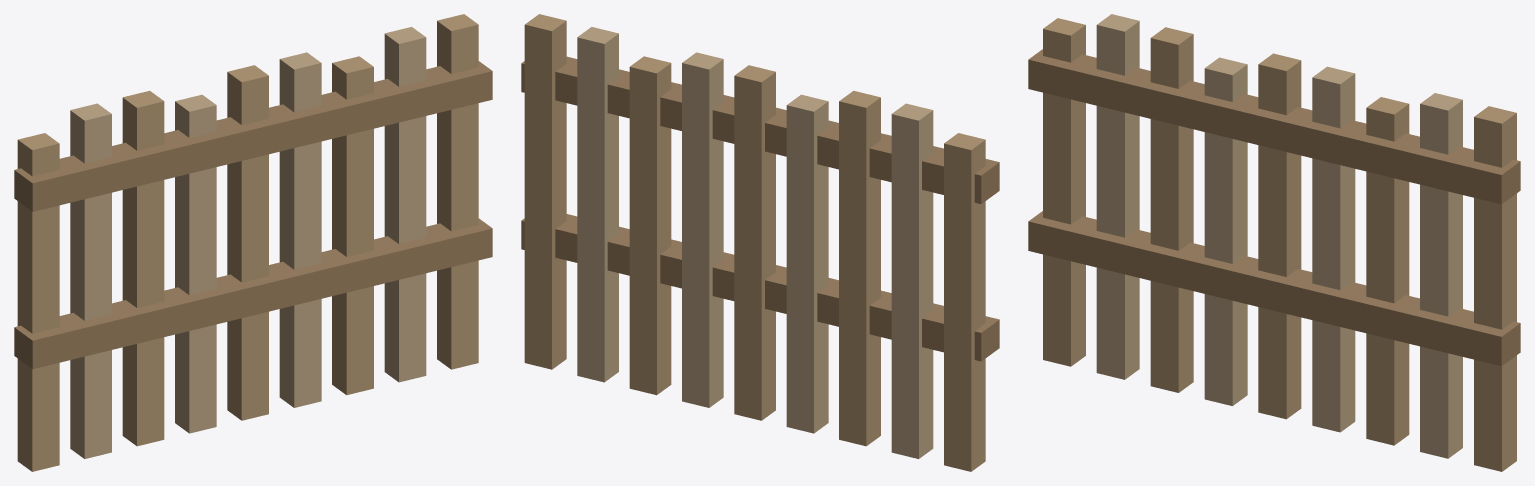
The picture shows the model from 3 angles, left to right: view 1: azimuth 30°, elevation 25°; view 2: azimuth 150°, elevation 25°; view 3: azimuth 330°, elevation 25°; orthographic projection. The views are drawn at different scales.
Visible parts, largest first — view 1: fence_picket; view 2: fence_picket; view 3: fence_picket.
Boxes of the visible parts, left/top/right/bottom form: fence_picket: left=14, top=14, right=492, bottom=471; fence_picket: left=521, top=14, right=999, bottom=471; fence_picket: left=1028, top=14, right=1520, bottom=471.
Bounding box in the file's own units: 2.02 × 1.42 × 0.165.
